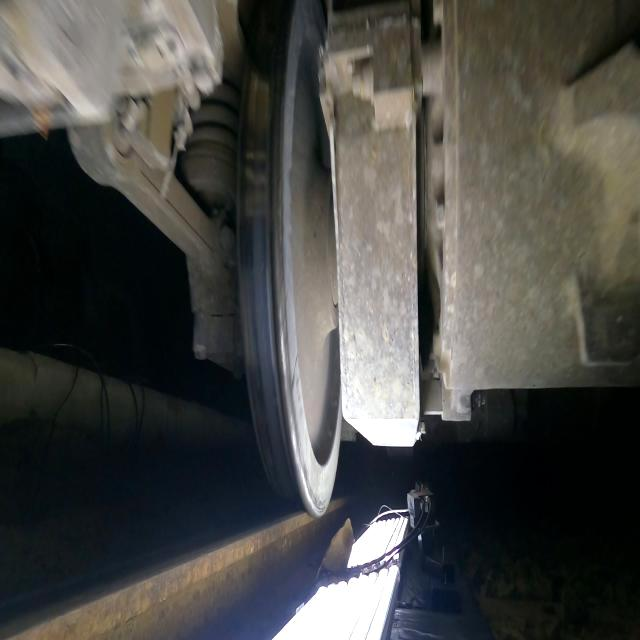Cracks-Scratches: (299, 453, 327, 513), (278, 306, 289, 390), (288, 416, 300, 456), (291, 352, 299, 397)
Discoloration: (249, 363, 297, 494), (241, 218, 269, 274)
Shelling: (244, 149, 269, 217), (248, 70, 270, 135)
Wheel: (238, 0, 341, 518)
